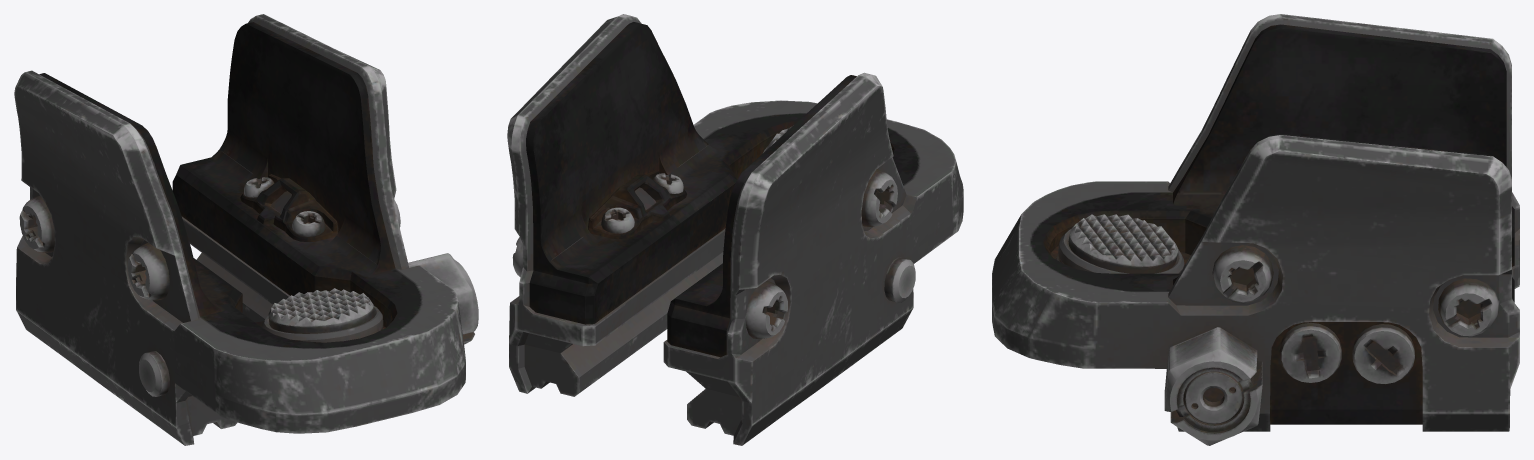
File: IronSights_8_B.glb
3 views of the same model, side by side, from view 1: azimuth 30°, elevation 25°; view 2: azimuth 150°, elevation 25°; view 3: azimuth 270°, elevation 25° (orthographic). The views are drawn at different scales.
Parts seen in each view (by area): view 1: IronSights_8_B; view 2: IronSights_8_B; view 3: IronSights_8_B.
Part boxes in pixels (x1,y1,x2,y2): IronSights_8_B: (14,14,478,445); IronSights_8_B: (507,14,963,445); IronSights_8_B: (992,14,1519,445).
Bounding box in the file's own units: 0.046 × 0.0404 × 0.0645.
Materials: 1 (1 with a texture image).
